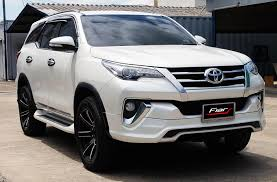pickup: (15, 8, 267, 172)
